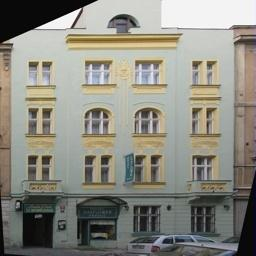building: (10, 28, 234, 255)
